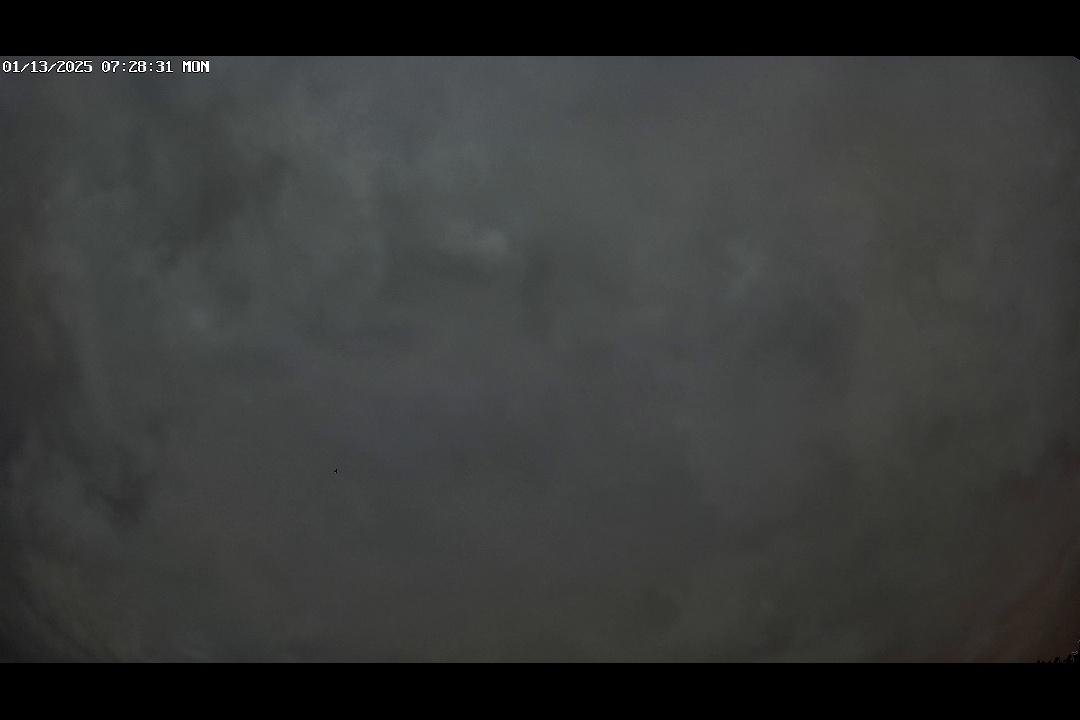WildLife: (325, 463, 347, 475)
